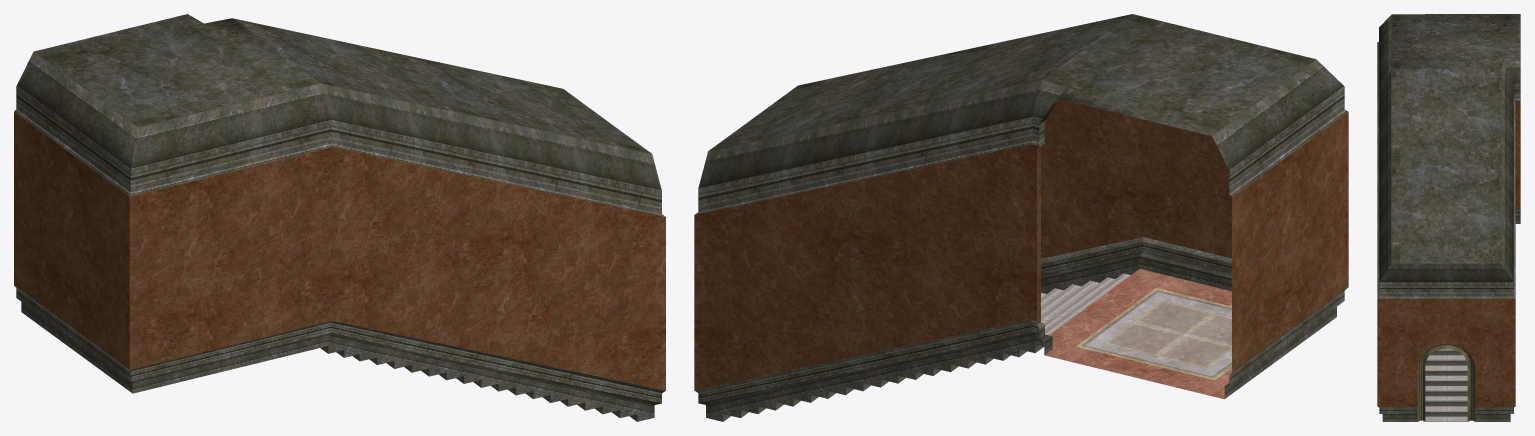
Rendered from thm_nboo_thed_theed_palace_r27_mesh_r27.fbx.
3 renders of one model, left to right at view 1: azimuth 30°, elevation 25°; view 2: azimuth 150°, elevation 25°; view 3: azimuth 270°, elevation 25°, orthographic. The views are drawn at different scales.
Parts seen in each view (by area): view 1: mesh_node; view 2: mesh_node; view 3: mesh_node.
Boxes of the visible parts, left/top/right/bottom form: mesh_node: left=14, top=14, right=665, bottom=421; mesh_node: left=694, top=14, right=1348, bottom=421; mesh_node: left=1377, top=14, right=1520, bottom=421.
Bounding box in the file's own units: 22.22 × 16.2 × 8.3.
